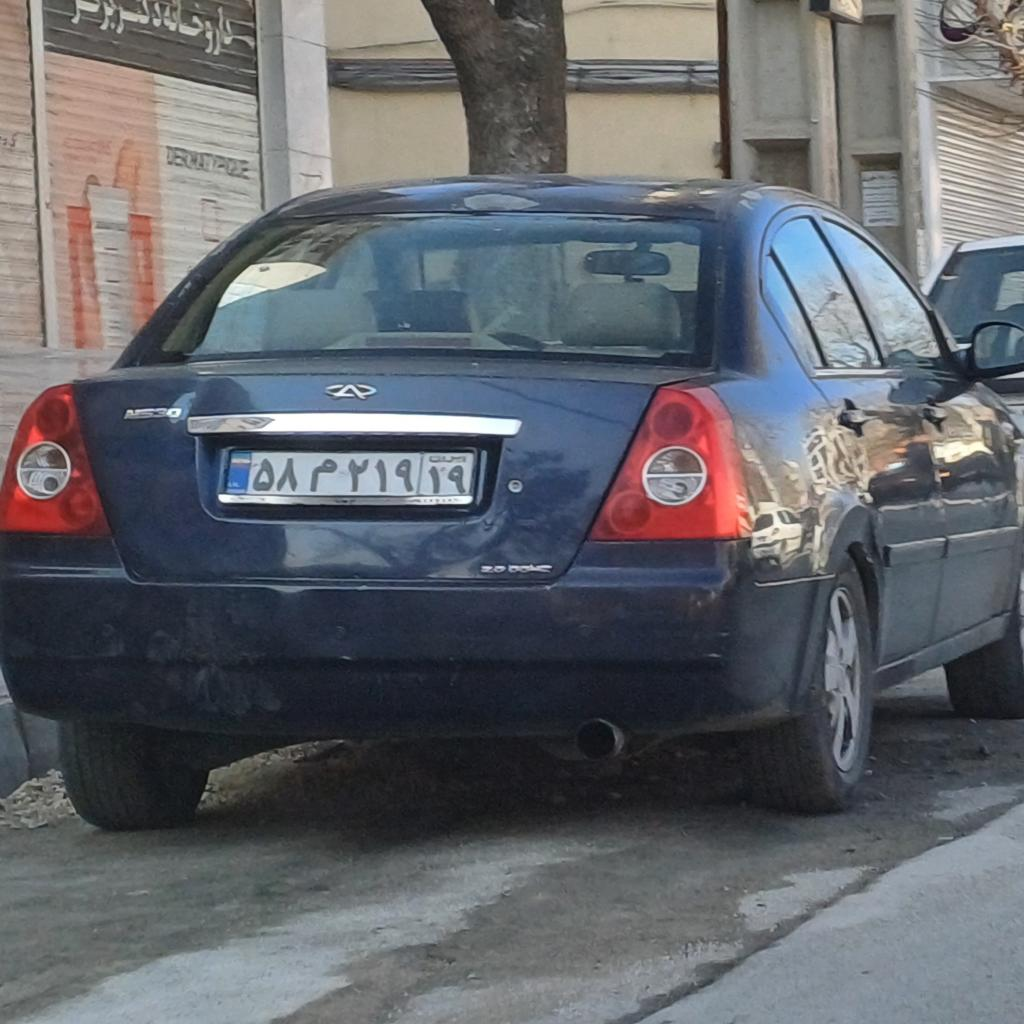Plates: (225, 448, 477, 497)
